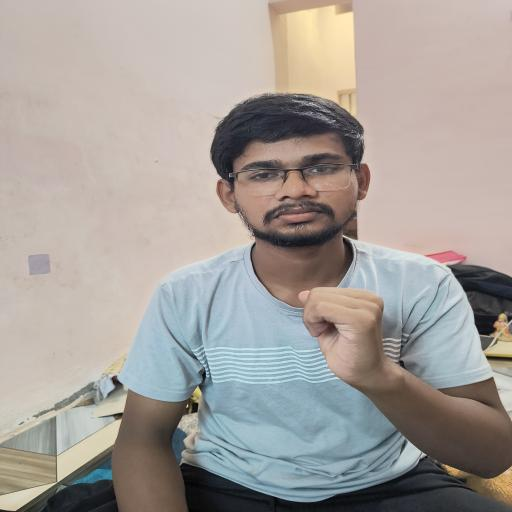wait: (286, 276, 431, 405)
